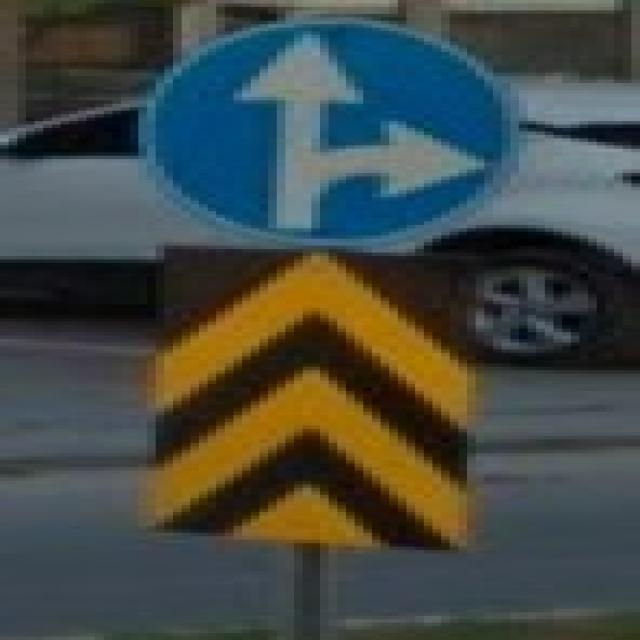Straight or Right: (148, 22, 520, 250)
